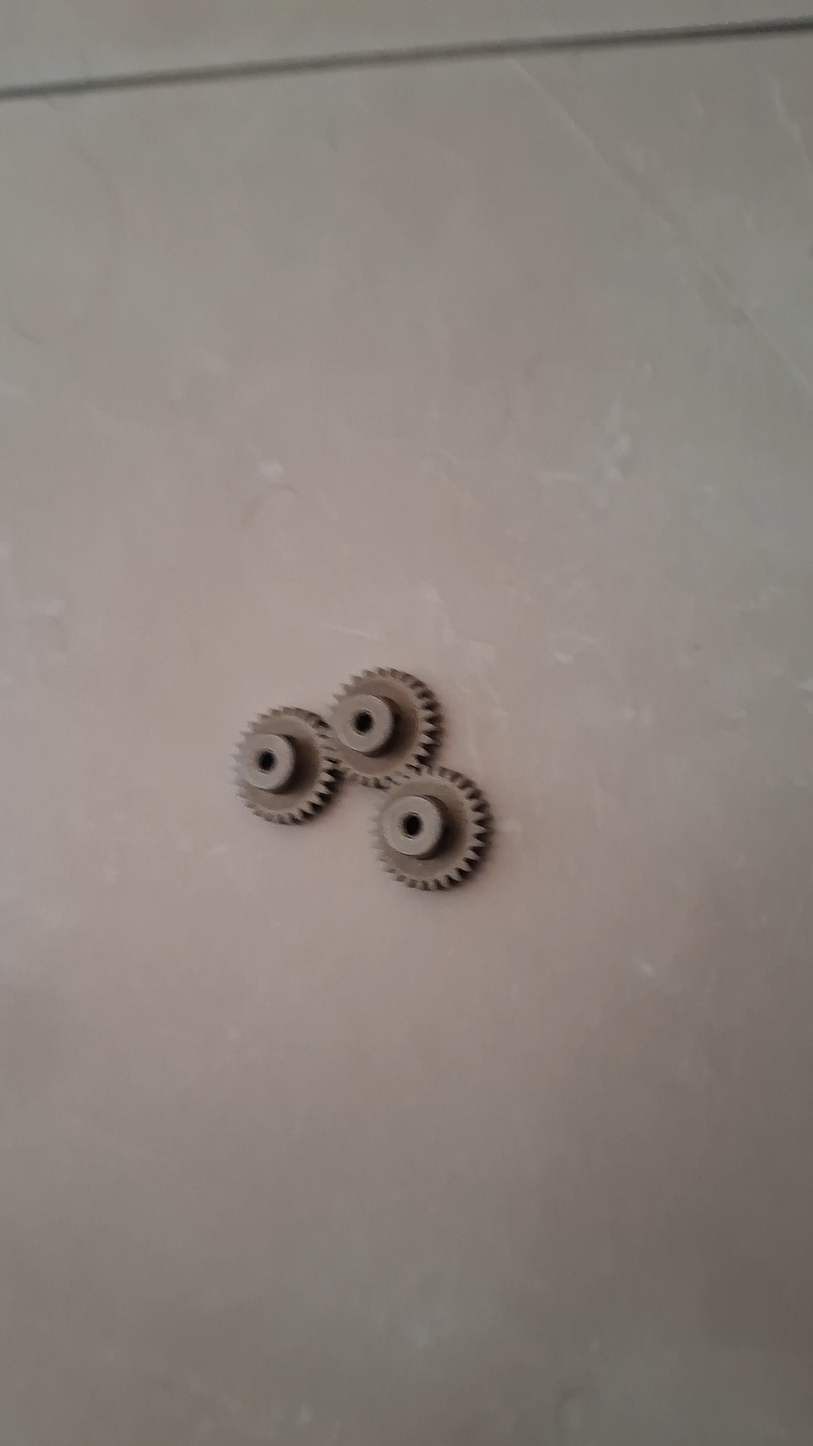spur gear: (375, 767, 489, 890), (330, 668, 441, 787), (235, 709, 340, 824)
